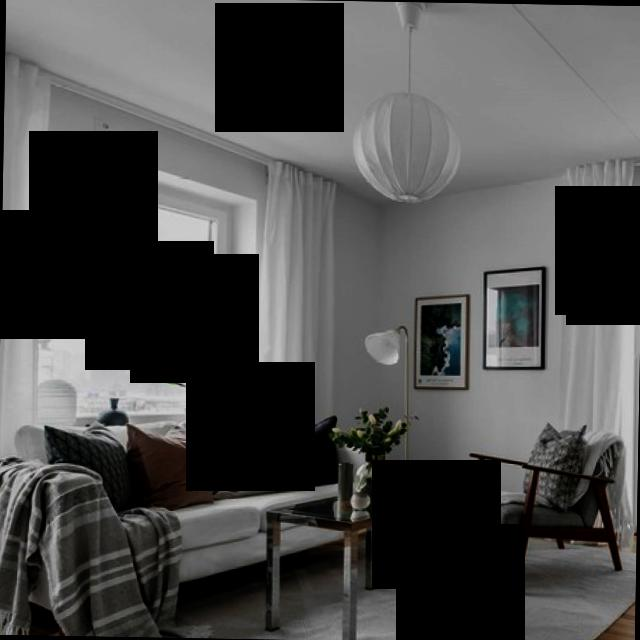white chair: (476, 422, 632, 584)
white desk: (263, 477, 471, 640)
white sofa: (0, 398, 261, 637)
